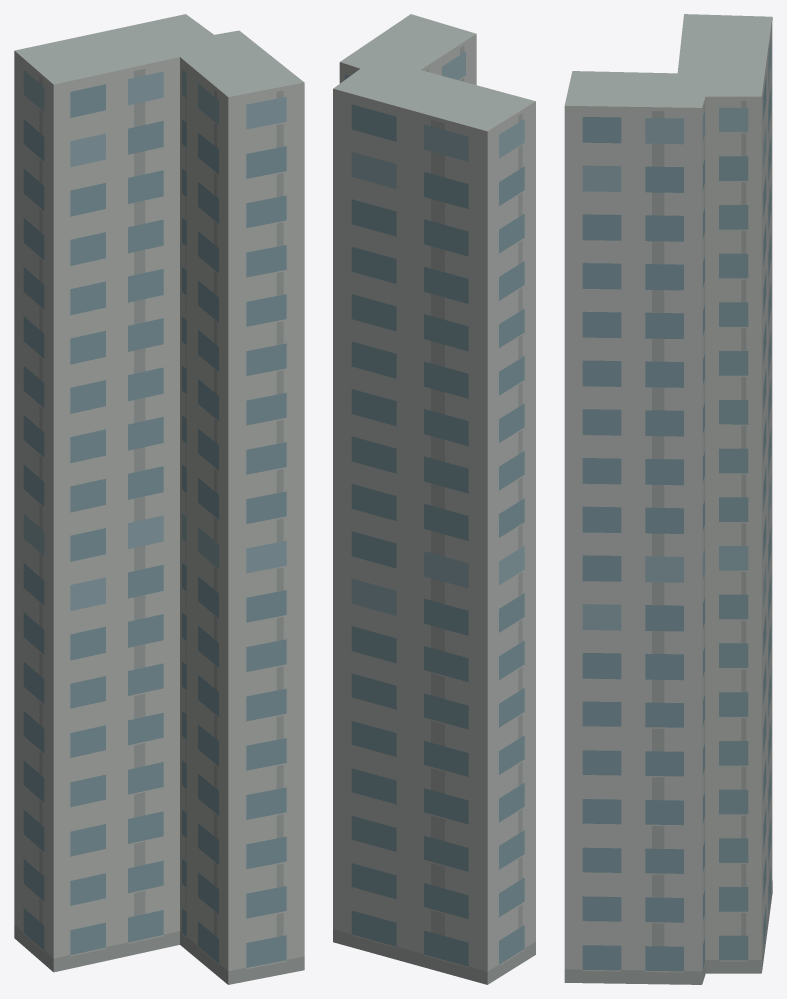
Rendered from survey-upis-32648520.glb.
3 views of the same model, side by side, from view 1: azimuth 30°, elevation 25°; view 2: azimuth 150°, elevation 25°; view 3: azimuth 270°, elevation 25° (orthographic). The views are drawn at different scales.
Visible parts, largest first — view 1: survey-upis-32648520.tmp; view 2: survey-upis-32648520.tmp; view 3: survey-upis-32648520.tmp.
Boxes of the visible parts, box(x1,y1,x2,y2) form: survey-upis-32648520.tmp: box(14, 14, 304, 984); survey-upis-32648520.tmp: box(333, 14, 535, 984); survey-upis-32648520.tmp: box(564, 14, 772, 984).
Bounding box in the file's own units: 12.62 × 54.9 × 11.8.
